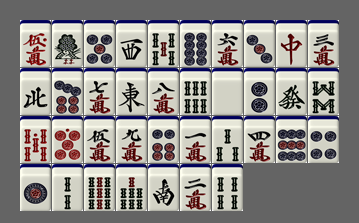0m: (20, 20, 51, 67)
0p: (52, 116, 83, 163)
0s: (20, 116, 51, 163)
1m: (180, 116, 211, 163)
1p: (20, 164, 51, 211)
1s: (52, 20, 83, 67)
1z: (116, 68, 147, 115)
2m: (180, 164, 211, 211)
2p: (244, 68, 275, 115)
2s: (52, 164, 83, 211)
2z: (148, 164, 179, 211)
3m: (308, 20, 339, 67)
3p: (244, 20, 275, 67)
3s: (212, 116, 243, 163)
3z: (116, 20, 147, 67)
4m: (244, 116, 275, 163)
4p: (308, 116, 339, 163)
4s: (212, 164, 243, 211)
4z: (20, 68, 51, 115)
5m: (84, 116, 115, 163)
5p: (84, 20, 115, 67)
5s: (148, 20, 179, 67)
5z: (212, 68, 243, 115)
6m: (212, 20, 243, 67)
6p: (148, 116, 179, 163)
6s: (180, 68, 211, 115)
6z: (276, 68, 307, 115)
7m: (84, 68, 115, 115)
7p: (52, 68, 83, 115)
7s: (116, 164, 147, 211)
7z: (276, 20, 307, 67)
8m: (148, 68, 179, 115)
8p: (180, 20, 211, 67)
8s: (308, 68, 339, 115)
9m: (116, 116, 147, 163)
9p: (276, 116, 307, 163)
9s: (84, 164, 115, 211)
